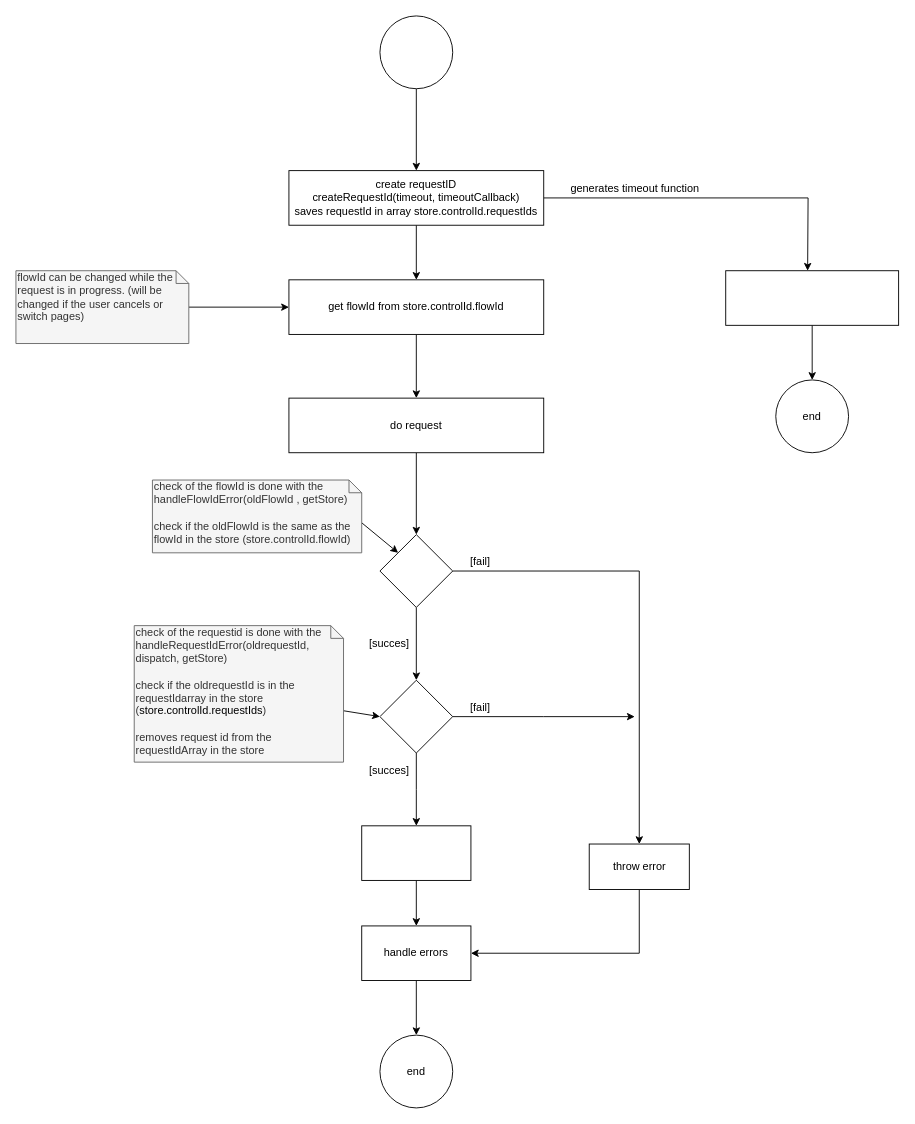
Image size: 915x1124. Some labels were removed from this diagram. The shapes that lost their labels are listed below. From the top down, each one's box as (x1, y1, x2, y2) in pixels, then its label:
(379, 15, 453, 89): start eIDLink request
(725, 270, 899, 325): after timeout removes requestId from store.controlId.requestIds
(379, 534, 453, 607): check flowId
(379, 679, 453, 753): check requestId
(361, 825, 471, 880): handle response
